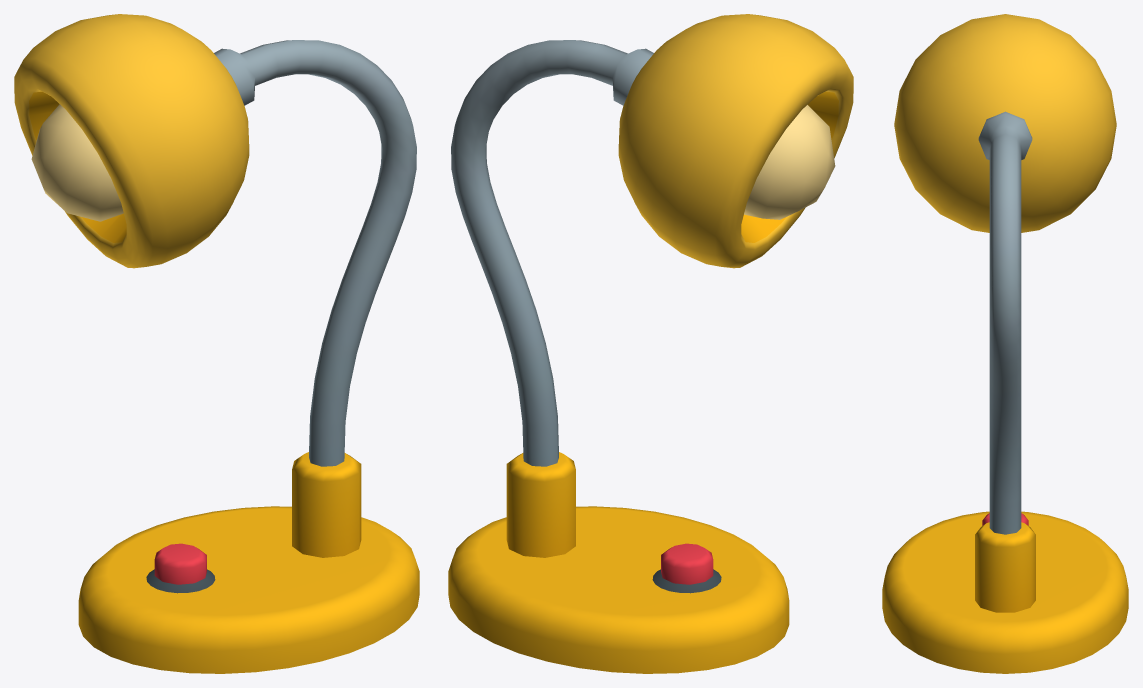
The model's file is Light_03.glb.
The picture shows the model from 3 angles, left to right: view 1: azimuth 30°, elevation 25°; view 2: azimuth 150°, elevation 25°; view 3: azimuth 270°, elevation 25°; orthographic projection. The views are drawn at different scales.
Parts seen in each view (by area): view 1: Light_03; view 2: Light_03; view 3: Light_03.
Part boxes in pixels (bbox=[...]): Light_03: bbox=[14, 14, 419, 673]; Light_03: bbox=[448, 14, 853, 673]; Light_03: bbox=[882, 14, 1128, 673].
Bounding box in the file's own units: 0.304 × 0.4789 × 0.2013.
Materials: 1 (1 with a texture image).
